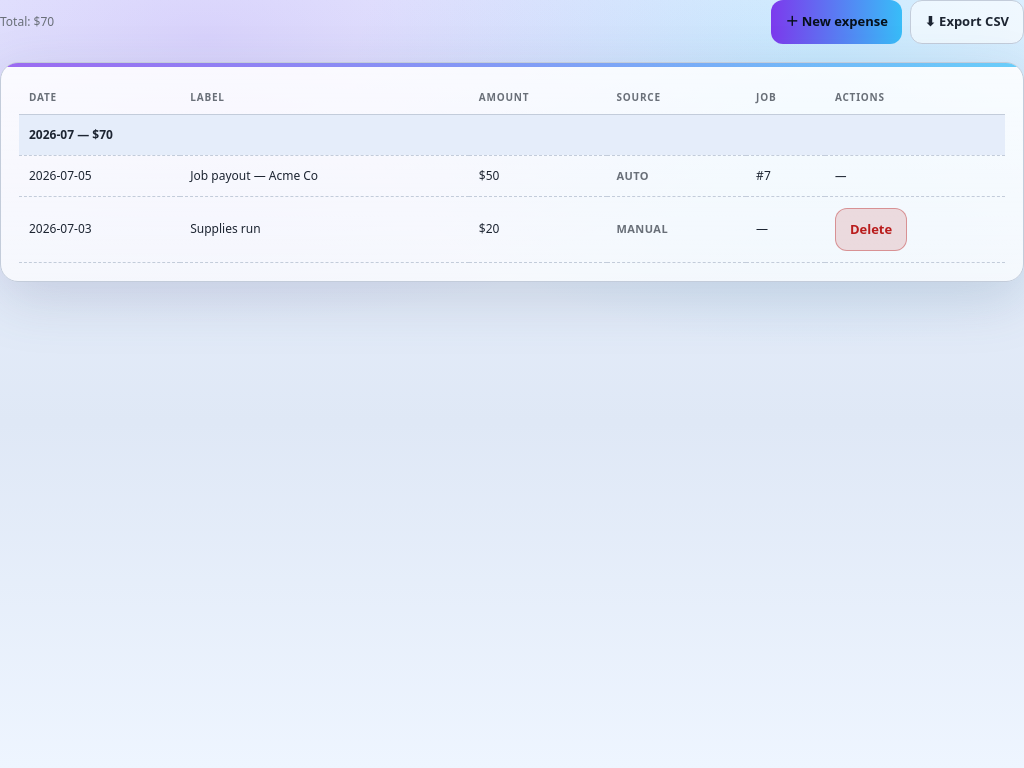
ExpensesSection › does not render the add-expense form until "＋ New expense" is clicked, then opens it in a dialog
The width and height of the screenshot is (1024, 768).
What coordinates should you click on to do the following:
click the button "＋ New expense"
I would click on:
 (837, 22)
Its box is [771, 0, 902, 44].
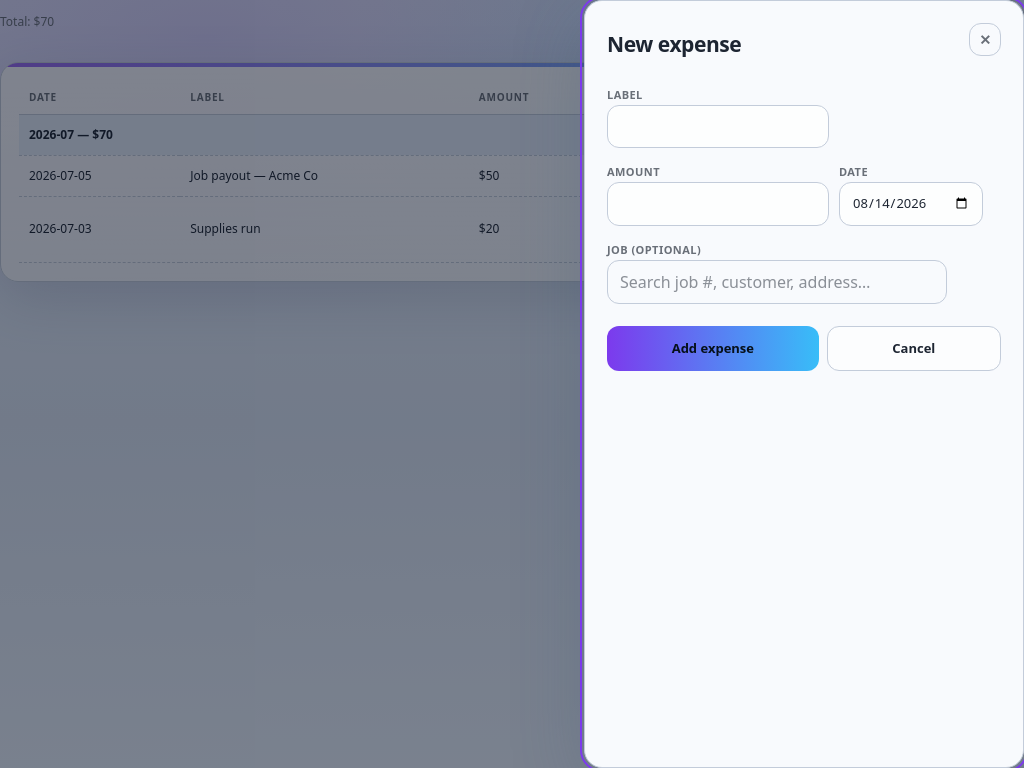
Expected: the dialog is shown, [584, 0, 1023, 767]
Expected: the field labelled "Label" is shown, [607, 104, 829, 148]
Expected: the number field labelled "Amount" is shown, [607, 182, 829, 226]
